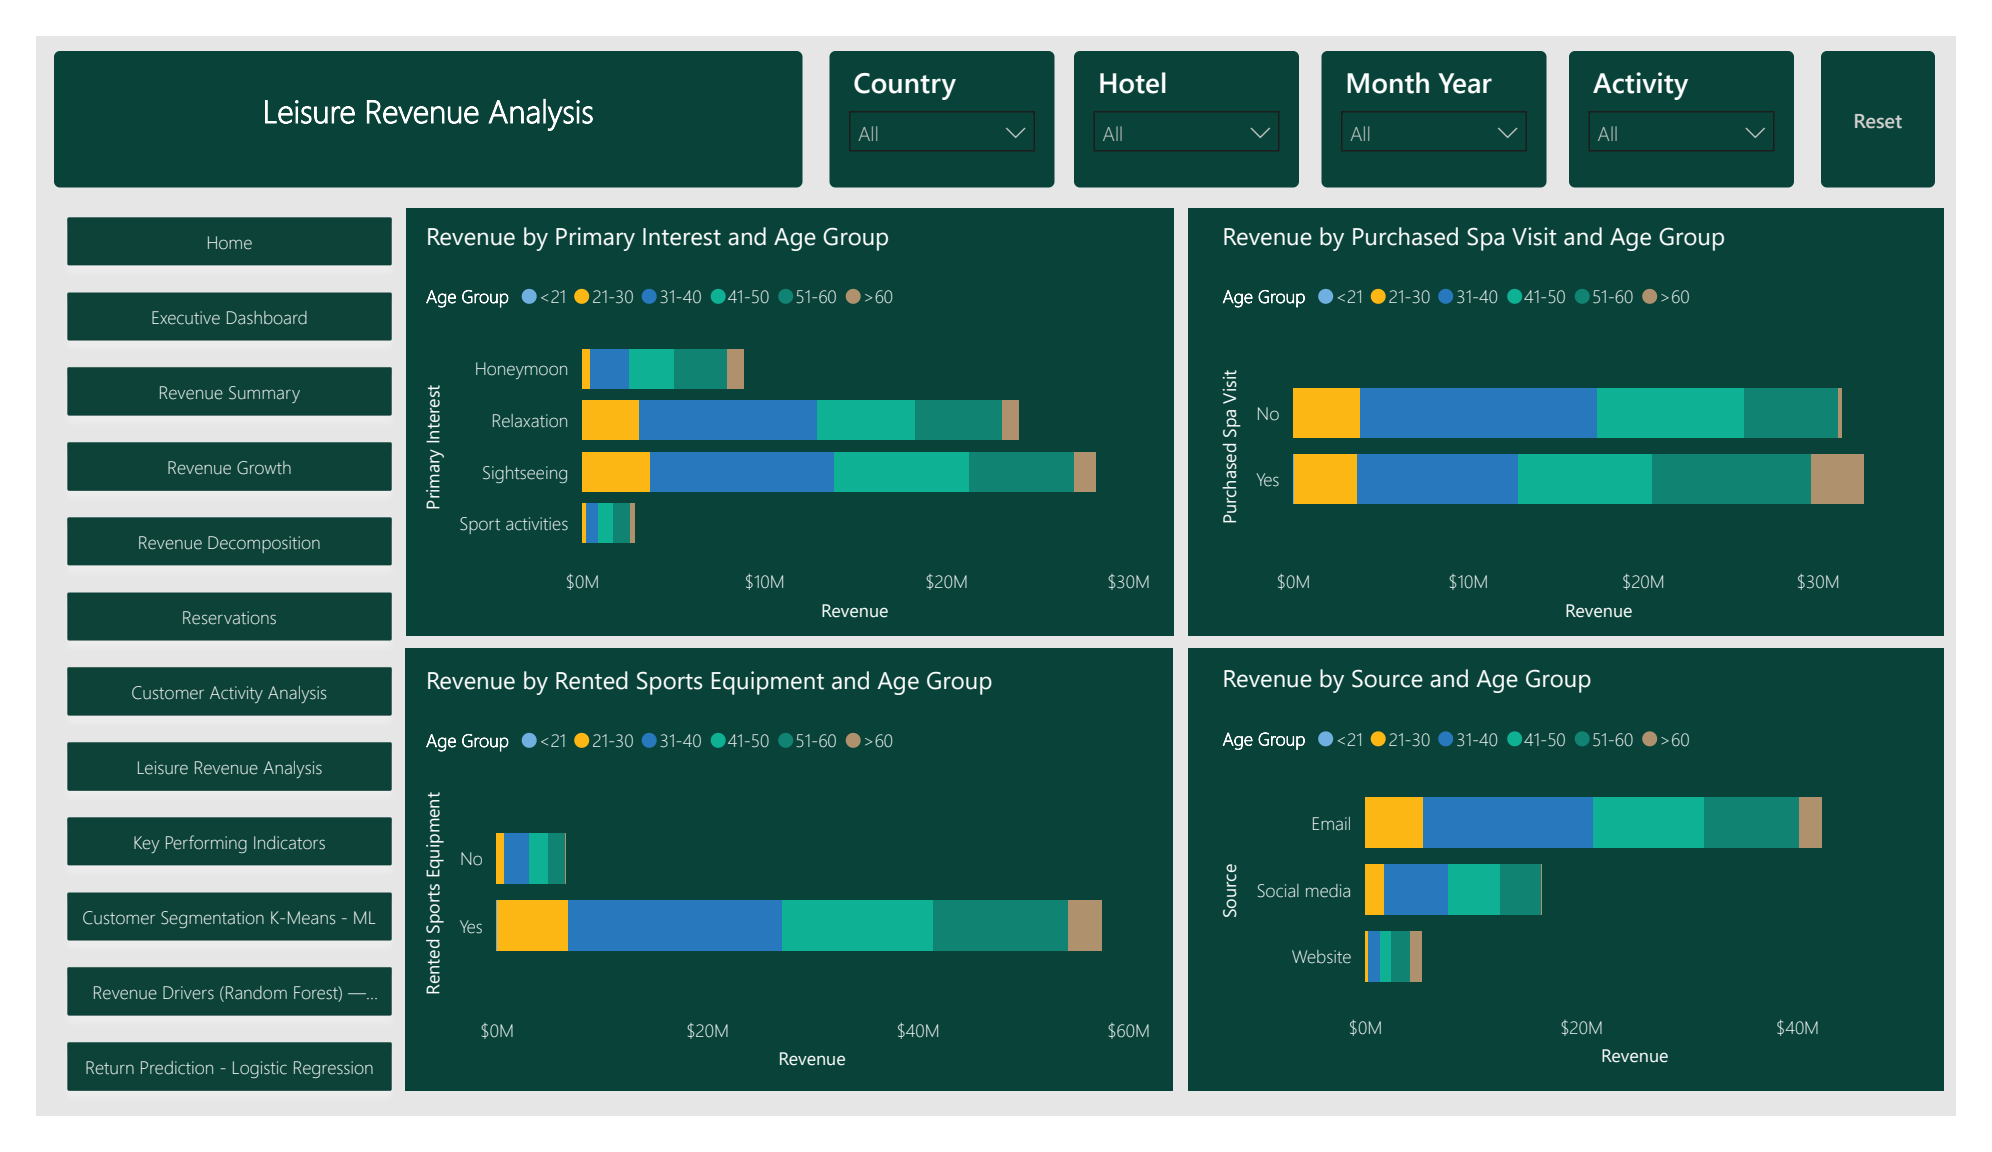

The dashboard page shown, as its layout file describes it:
{"tool":"powerbi","page":{"name":"Leisure Revenue Analysis","canvas":[1280,720],"ordinal":7},"visuals":[{"type":"shape","box":[246.9,114.9,511.7,284.6],"z":0},{"type":"textbox","box":[11.7,9.9,499.2,90.7],"z":1000},{"type":"slicer","fields":{"Values":["Country.Country"]},"box":[528.8,9.9,150,90.7],"z":2000},{"type":"pageNavigator","box":[11.7,112.2,234.3,607.8],"z":3000},{"type":"slicer","fields":{"Values":["Hotel Visited.Hotel"]},"box":[692.2,9.9,150,90.7],"z":4000},{"type":"slicer","fields":{"Values":["Calender.MonthYear"]},"box":[857.4,9.9,150,90.7],"z":5000},{"type":"slicer","fields":{"Values":["Primary interest.Primary Interest"]},"box":[1021.6,9.9,150,90.7],"z":6000},{"type":"actionButton","box":[1189.5,9.9,76.3,90.7],"z":7000},{"type":"shape","box":[767.6,407.6,504.5,295.4],"z":8000},{"type":"shape","box":[246,407.6,511.7,295.4],"z":9000},{"type":"shape","box":[767.6,114.9,504.5,284.6],"z":10000},{"type":"barChart","fields":{"Category":["Primary interest.Primary Interest"],"Series":["Age.Age Group"],"Y":["Sum(Data.Revenue)"]},"box":[255,122.1,492.9,272.9],"z":11000},{"type":"barChart","fields":{"Category":["Purchased spa visit.Purchased Spa Visit"],"Series":["Age.Age Group"],"Y":["Sum(Data.Revenue)"]},"box":[786.4,122.1,479.4,272.9],"z":12000},{"type":"barChart","fields":{"Category":["Rented sports equipment.Rented Sports Equipment"],"Series":["Age.Age Group"],"Y":["Sum(Data.Revenue)"]},"box":[255,418.4,492.9,275.6],"z":13000},{"type":"barChart","fields":{"Category":["Source.Source"],"Series":["Age.Age Group"],"Y":["Sum(Data.Revenue)"]},"box":[786.4,416.6,479.4,275.6],"z":14000}]}

Visuals, with their boxes in screenshot pixels (x1, y1, x2, y2), scaled from the page's 1280x720 canvas onto the 1992x1152 screenshot:
shape: x1=384, y1=184, x2=1181, y2=639
textbox: x1=18, y1=16, x2=795, y2=161
slicer - Country.Country: x1=823, y1=16, x2=1056, y2=161
pageNavigator: x1=18, y1=180, x2=383, y2=1151
slicer - Hotel Visited.Hotel: x1=1077, y1=16, x2=1311, y2=161
slicer - Calender.MonthYear: x1=1334, y1=16, x2=1568, y2=161
slicer - Primary interest.Primary Interest: x1=1590, y1=16, x2=1823, y2=161
actionButton: x1=1851, y1=16, x2=1970, y2=161
shape: x1=1195, y1=652, x2=1980, y2=1125
shape: x1=383, y1=652, x2=1179, y2=1125
shape: x1=1195, y1=184, x2=1980, y2=639
barChart - Primary interest.Primary Interest x Age.Age Group: x1=397, y1=195, x2=1164, y2=632
barChart - Purchased spa visit.Purchased Spa Visit x Age.Age Group: x1=1224, y1=195, x2=1970, y2=632
barChart - Rented sports equipment.Rented Sports Equipment x Age.Age Group: x1=397, y1=669, x2=1164, y2=1110
barChart - Source.Source x Age.Age Group: x1=1224, y1=667, x2=1970, y2=1108
